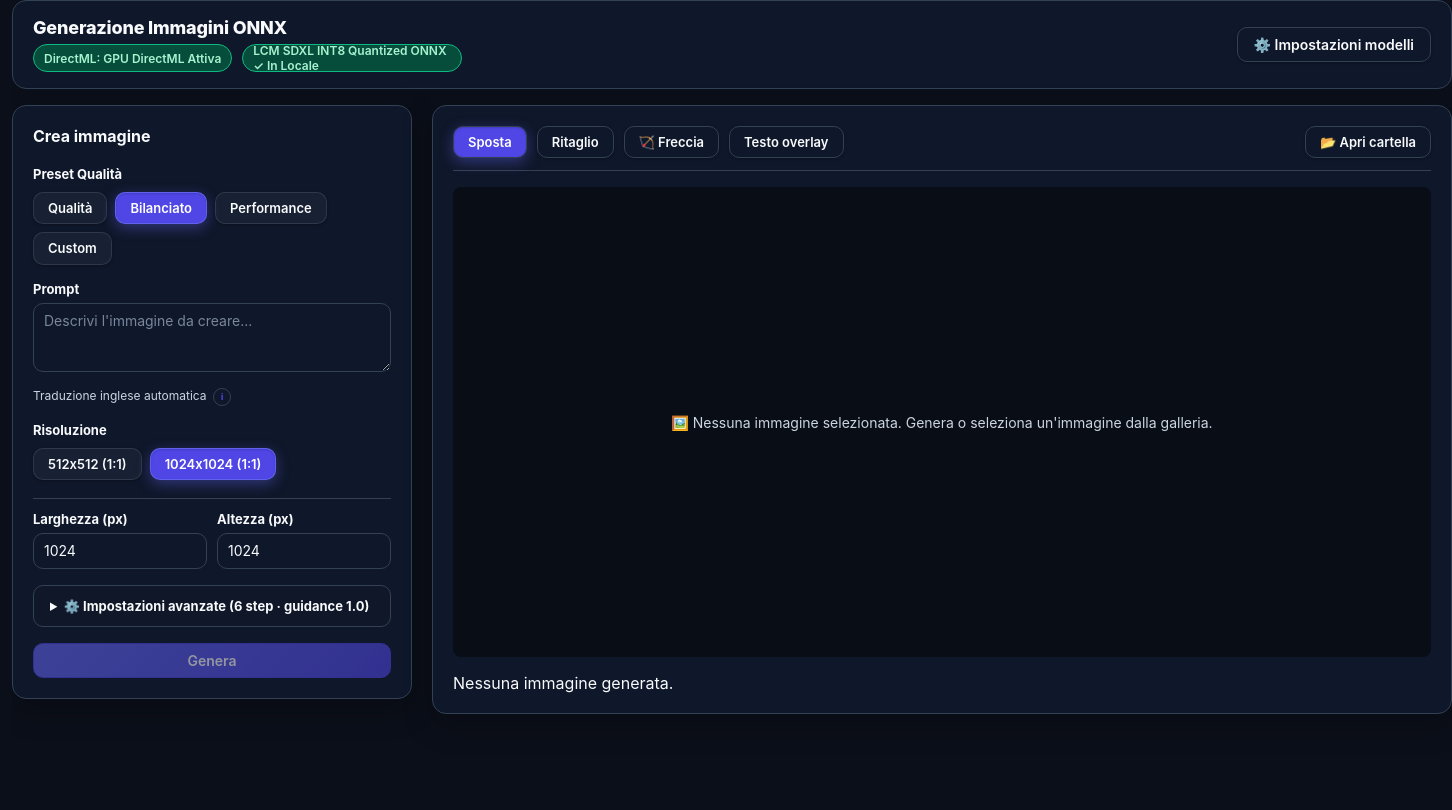
Test: ImagesSection › opens the generated images folder from the editor
Expected: the heading "Crea immagine" is shown, [33,126,150,146]
Click the button "📂 Apri cartella" at coordinates (1368, 142), box [1305,126,1431,158]
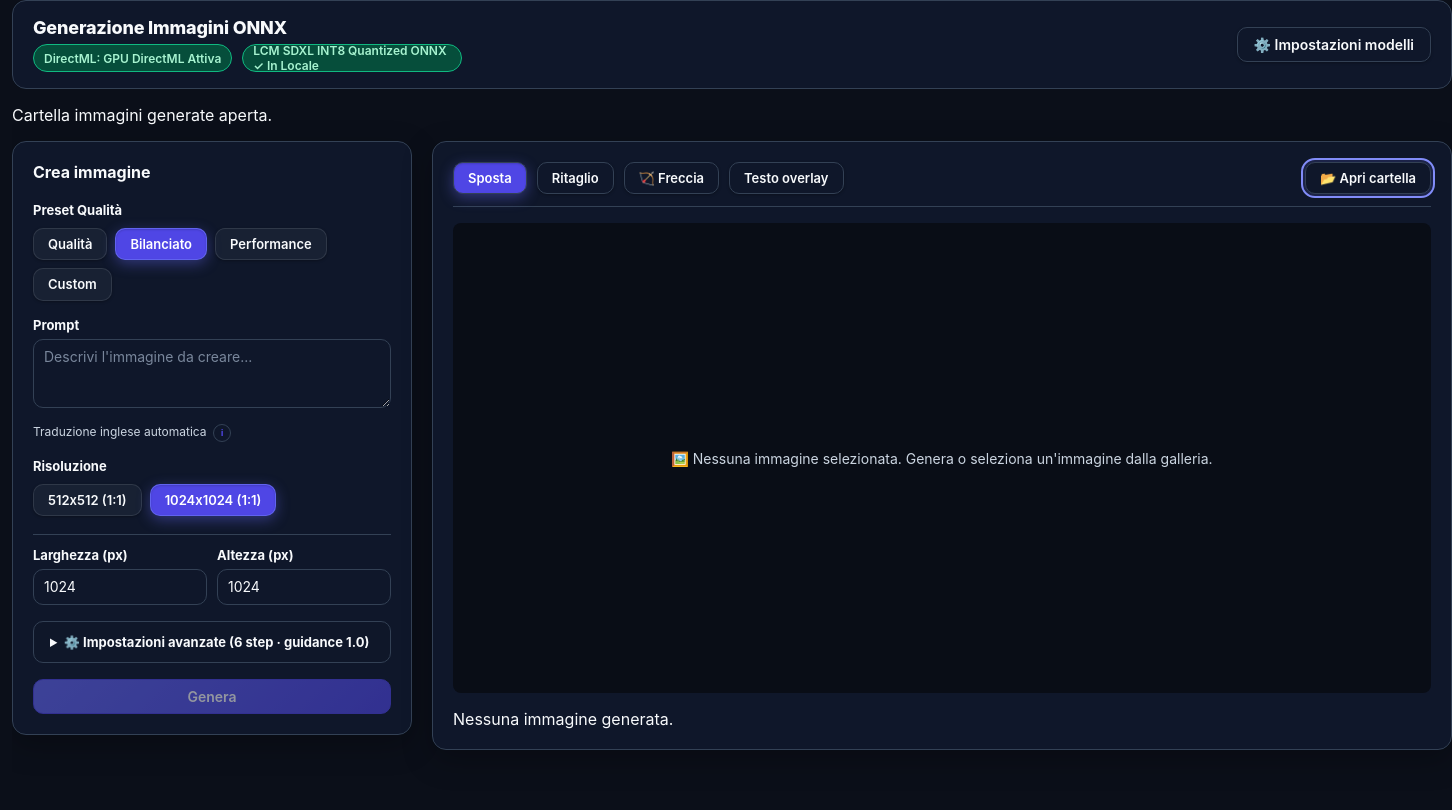
Expected: the text "Cartella immagini generate aperta." is shown, [12,105,272,125]
